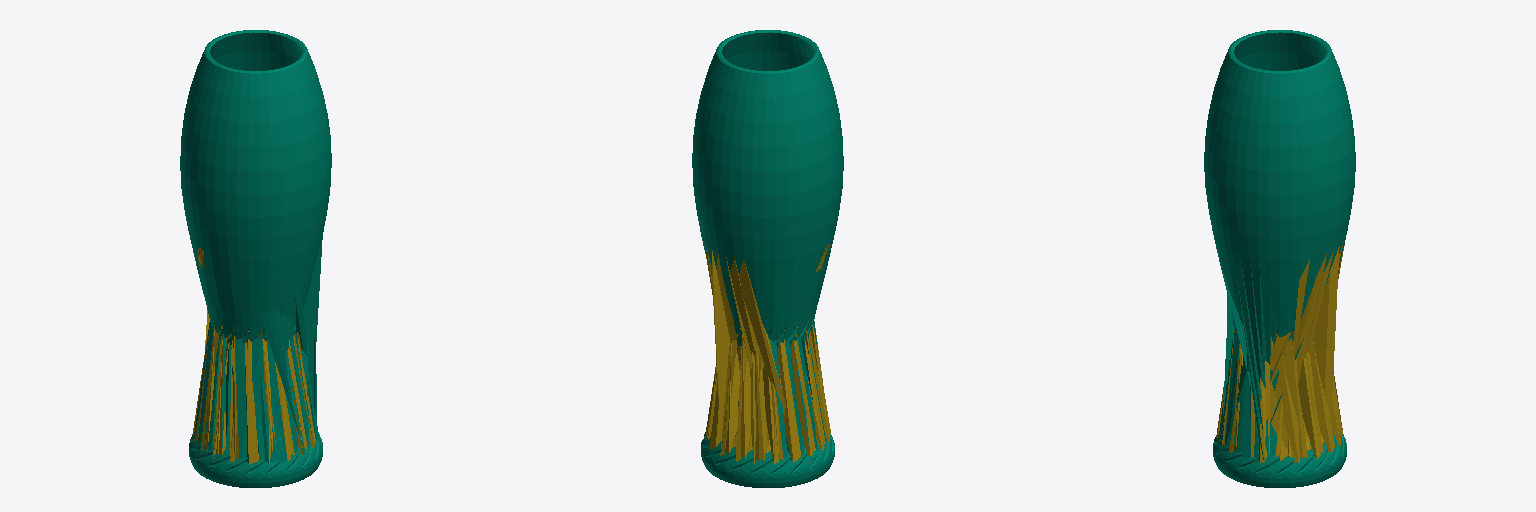
File: glass_06_no_drops.obj
3 views of the same model, side by side, from view 1: azimuth 30°, elevation 25°; view 2: azimuth 150°, elevation 25°; view 3: azimuth 270°, elevation 25° (orthographic).
Parts seen in each view (by area): view 1: glass_008, glass_06_foam001, glass_06_liquid001; view 2: glass_008, glass_06_liquid001, glass_06_foam001; view 3: glass_008, glass_06_liquid001, glass_06_foam001.
Part boxes in pixels (x1,y1,x2,y2): glass_008: (180, 30, 331, 487); glass_06_foam001: (191, 236, 322, 468); glass_06_liquid001: (192, 248, 315, 464); glass_008: (692, 30, 843, 487); glass_06_liquid001: (703, 240, 830, 463); glass_06_foam001: (701, 236, 832, 459); glass_008: (1204, 30, 1355, 487); glass_06_liquid001: (1216, 239, 1345, 462); glass_06_foam001: (1214, 238, 1339, 461).
Bounding box in the file's own units: 81.95 × 245 × 81.95.